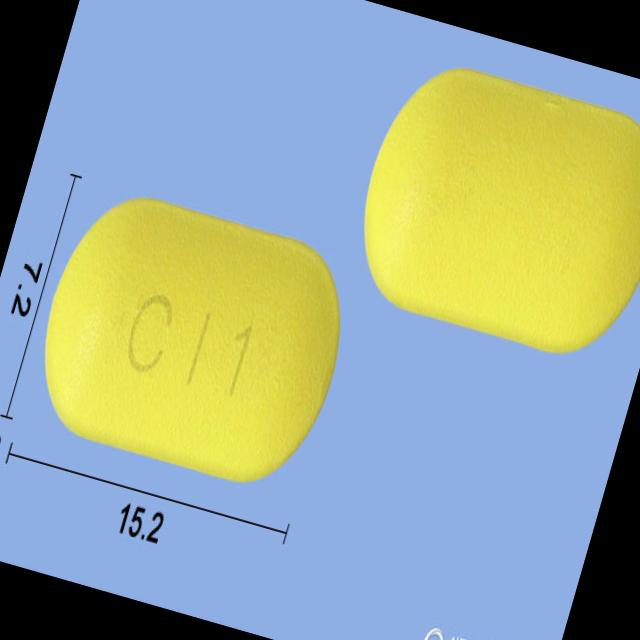Clomycin - 500mg: (15, 174, 368, 499)
